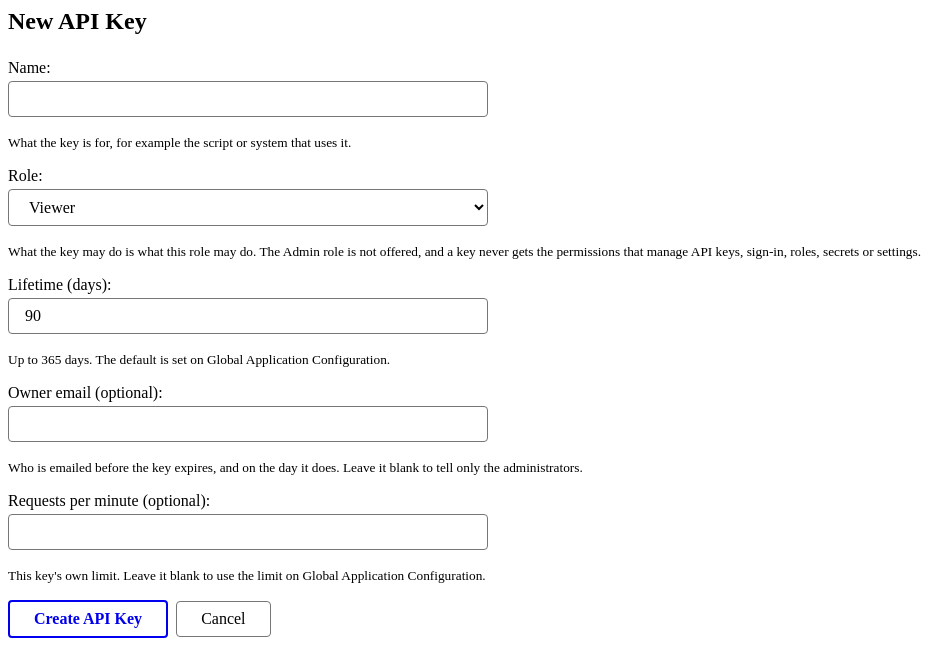
ApiKeyCreate.vue › creates the key, then shows it once with a copy button
Type "Nightly sync" into the field labelled "Name:".
click(248, 99); type("Nightly sync")  # box [8, 81, 488, 117]
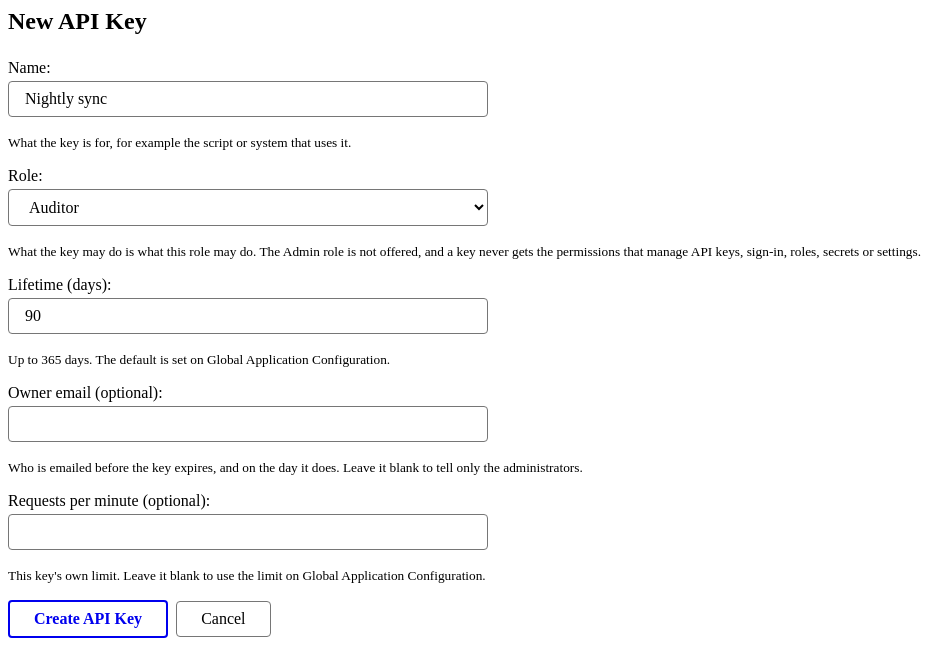
Select "Auditor" in the dropdown labelled "Role:" at (248, 208), box [8, 189, 488, 226]
Select "Auditor" in the dropdown labelled "Role:" at (248, 208), box [8, 189, 488, 226]
Replace the text in the number field labelled "Lifetime (days):" with "30" at (248, 316), box [8, 298, 488, 334]
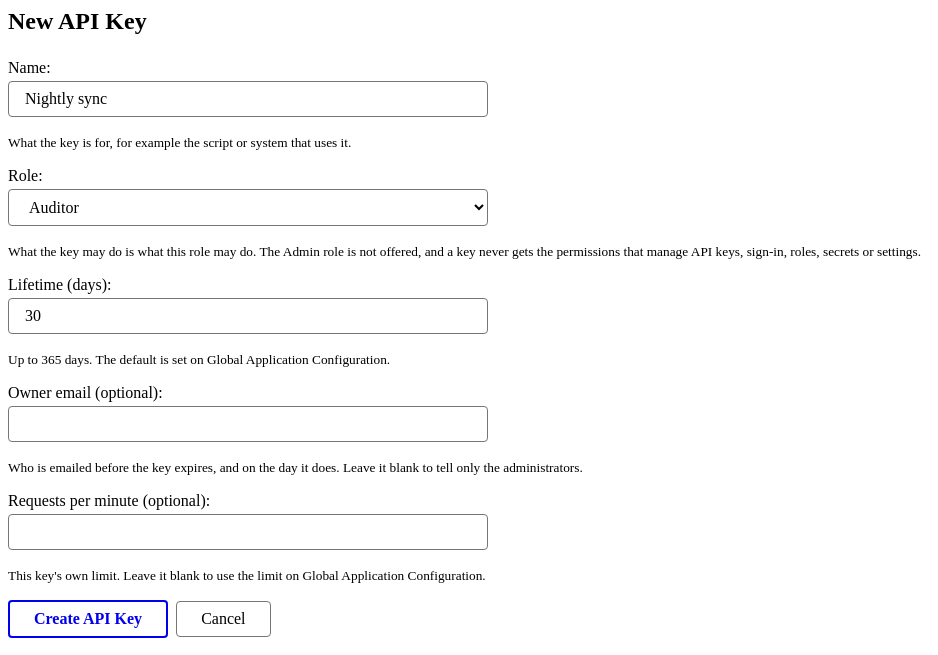
Submit the form
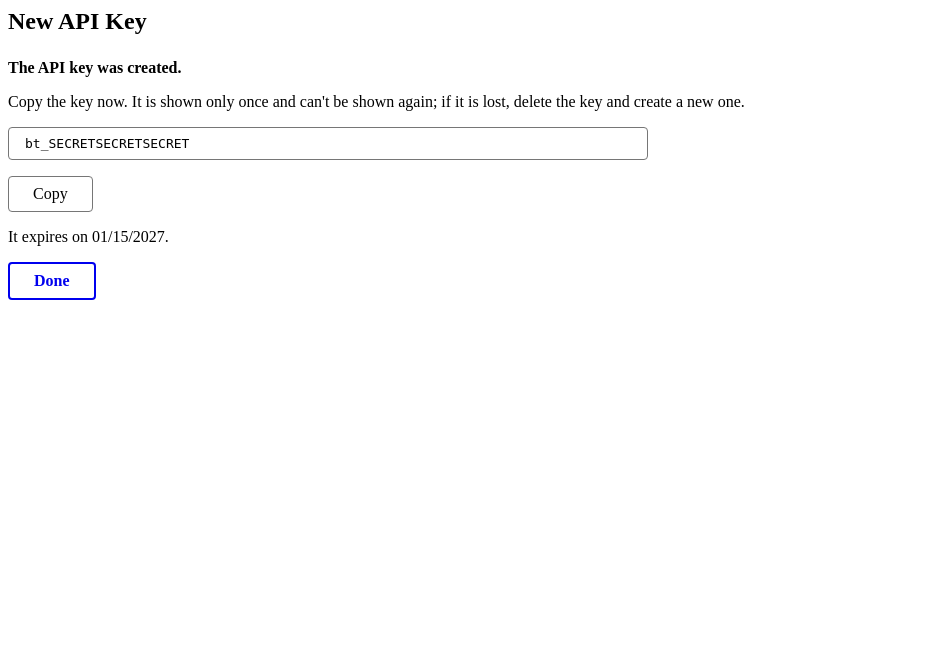
Expected: the field with class "api-key-value" holds "bt_SECRETSECRETSECRET", [8, 127, 648, 160]
Expected: the text "shown only once" is shown, [8, 93, 745, 110]
